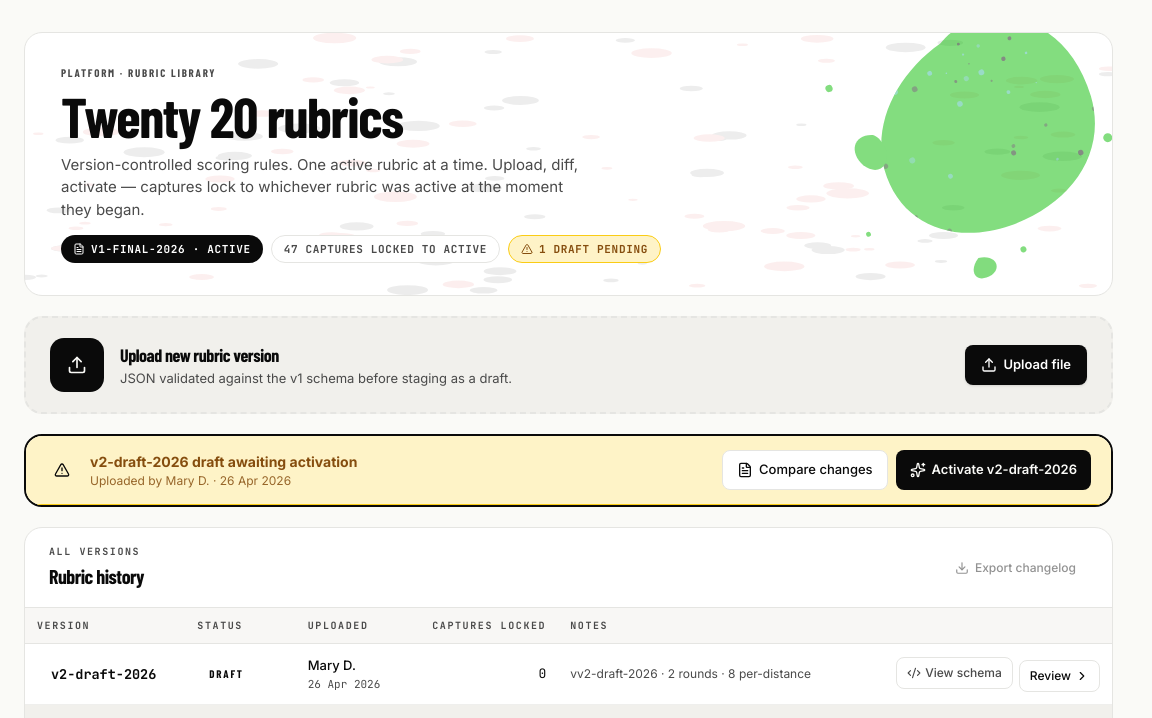
<RubricsClient /> — draft banner › Activate CTA opens the activate modal
Click the button "Activate v2-draft-2026" at (993, 470), box top-left (896, 450), bottom-right (1091, 490)
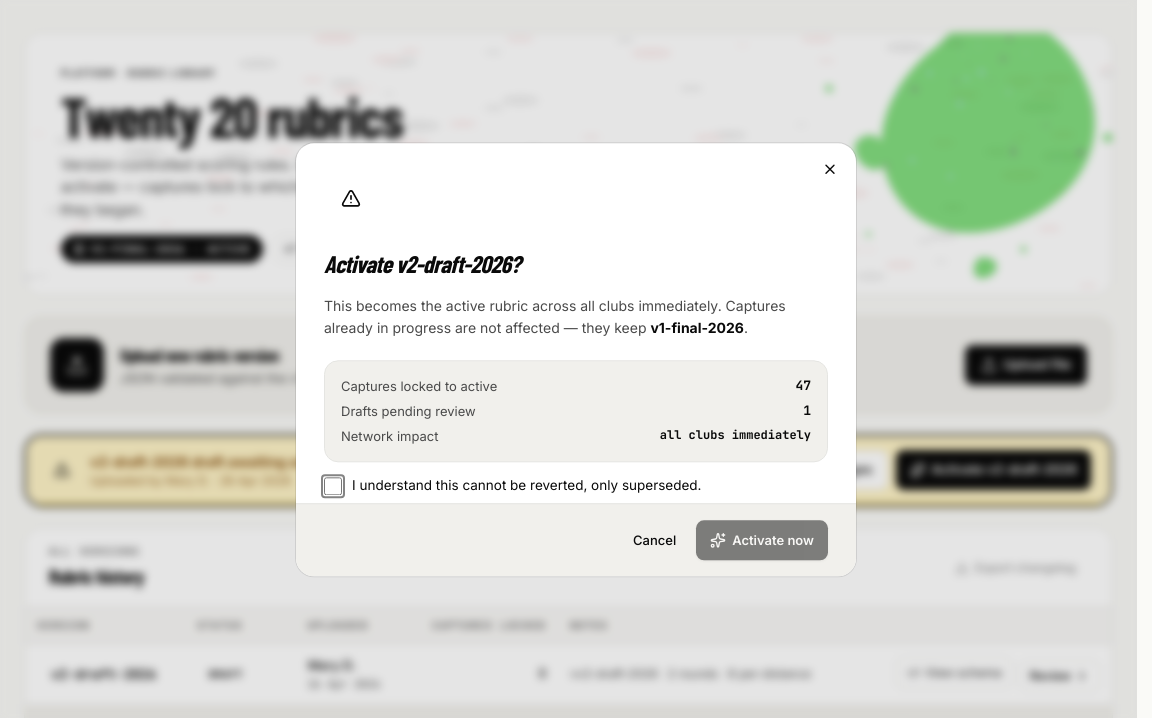
Expected: the dialog is shown, top-left (296, 143), bottom-right (856, 577)
